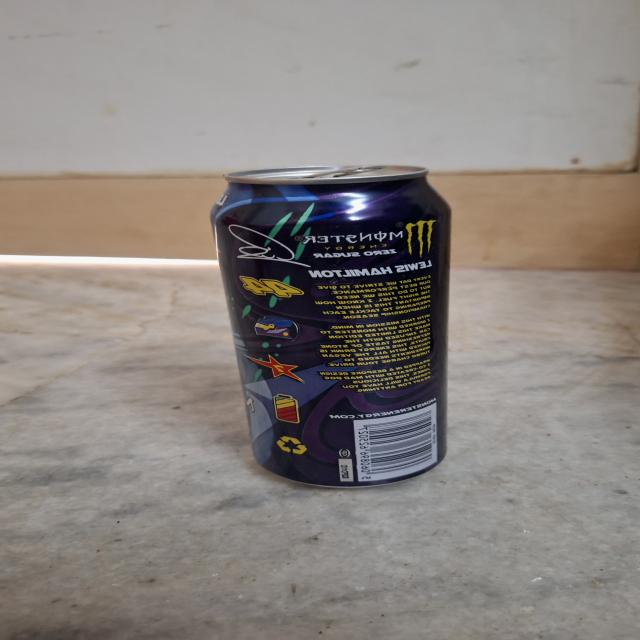Monster LH44: (208, 170, 462, 496)
